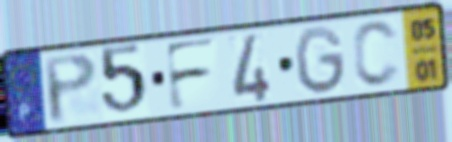4: (230, 30, 274, 105)
5: (97, 41, 151, 121)
C: (350, 18, 404, 90)
F: (161, 35, 219, 114)
G: (292, 23, 348, 97)
P: (40, 50, 101, 127)
